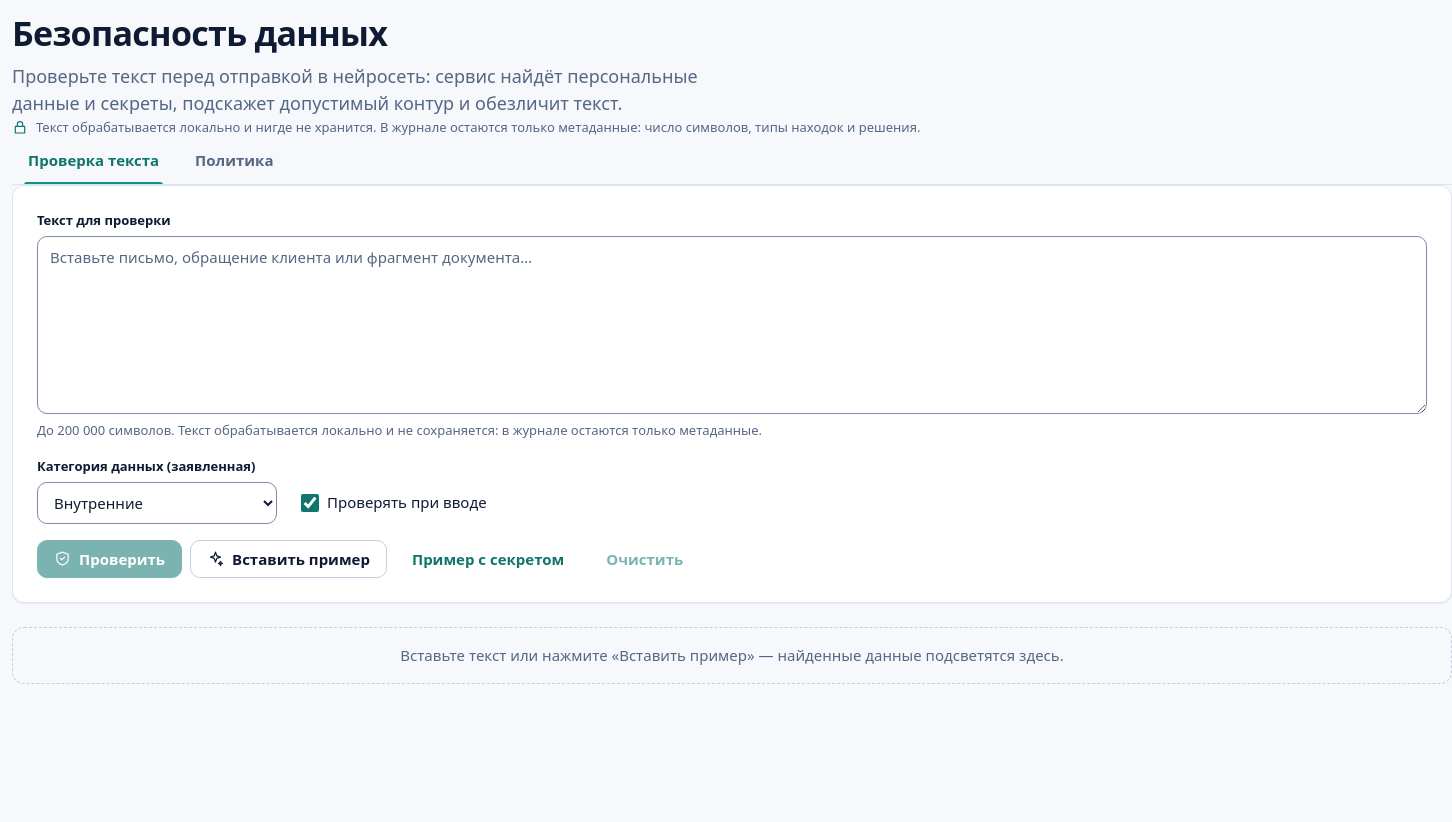
Test: SafetyPage: проверка текста › ошибка API показывается баннером с повтором
The width and height of the screenshot is (1452, 822).
Type "x" into the text box labelled "Текст для проверки" at (732, 325), box [37,236,1427,414]
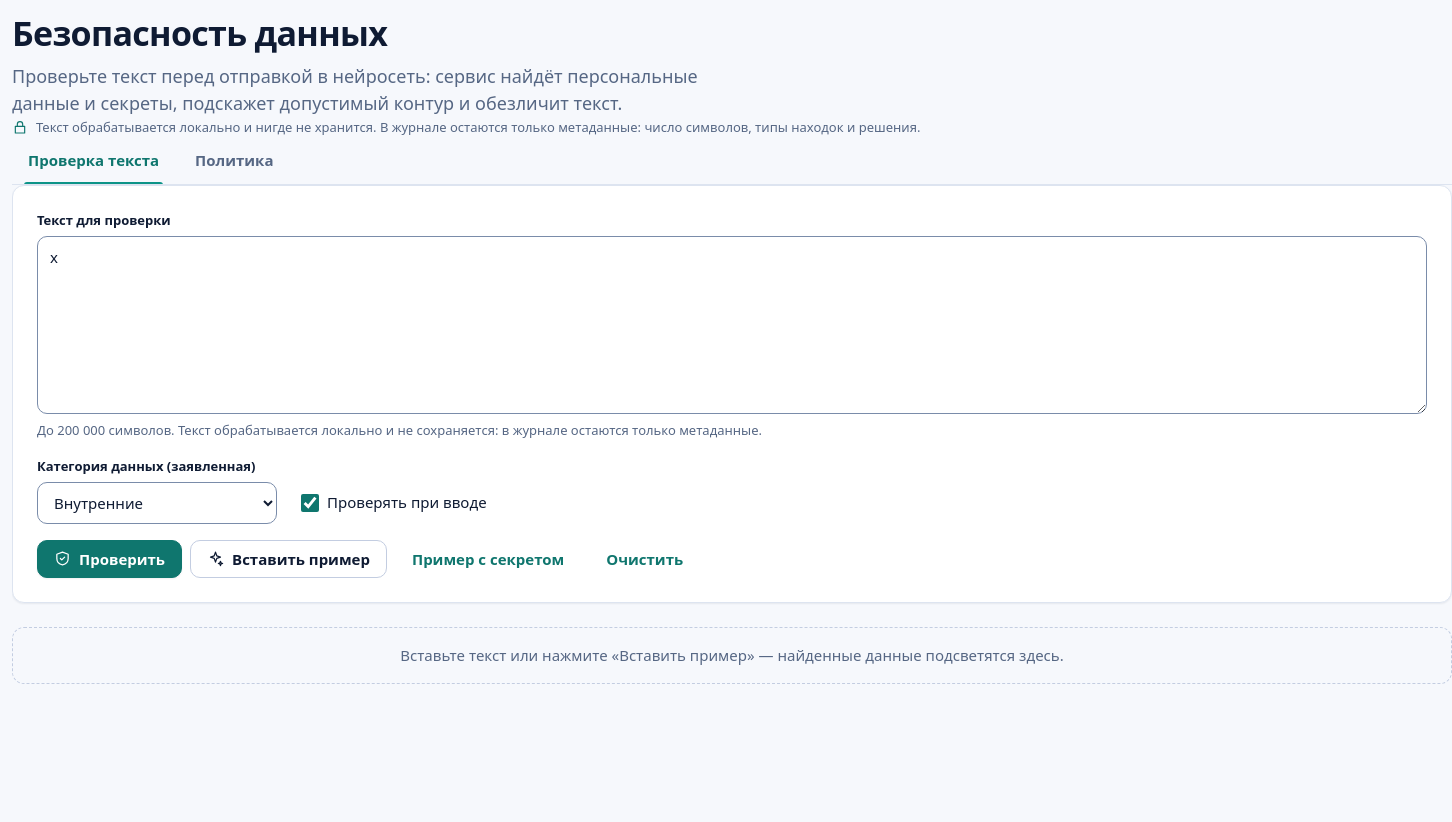
Click the button "Проверить" at (110, 559), box [37,540,182,578]
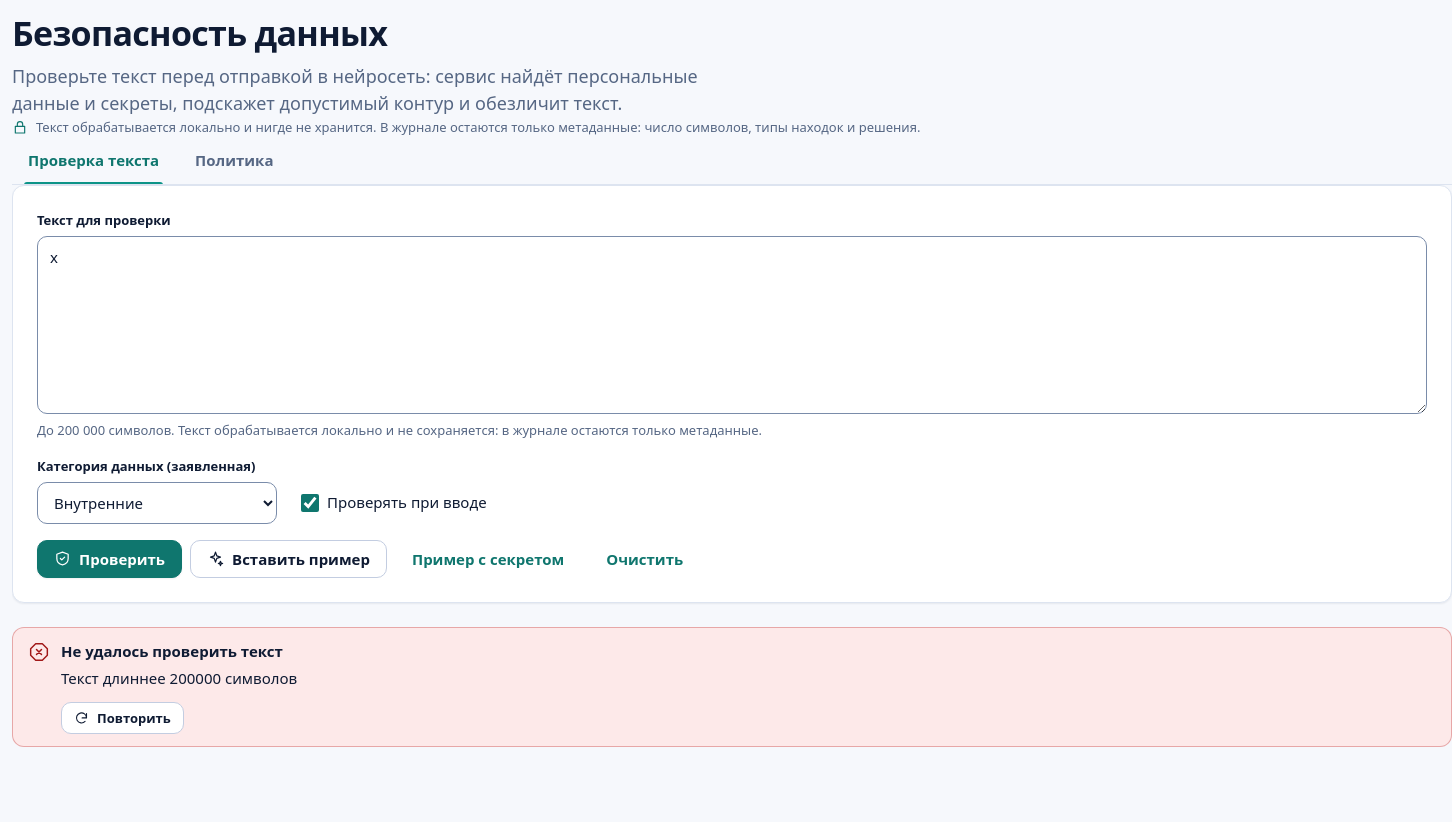
Check: the text "Текст длиннее 200000 символов" is shown, box [61,668,297,688]
Check: the button "Повторить" is shown, box [61,702,184,734]
